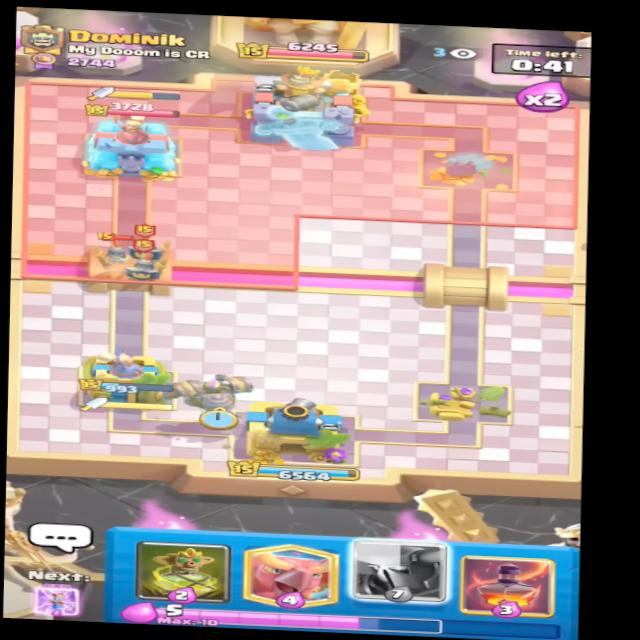guards: (132, 230, 167, 261), (97, 237, 131, 267), (128, 254, 165, 281)
